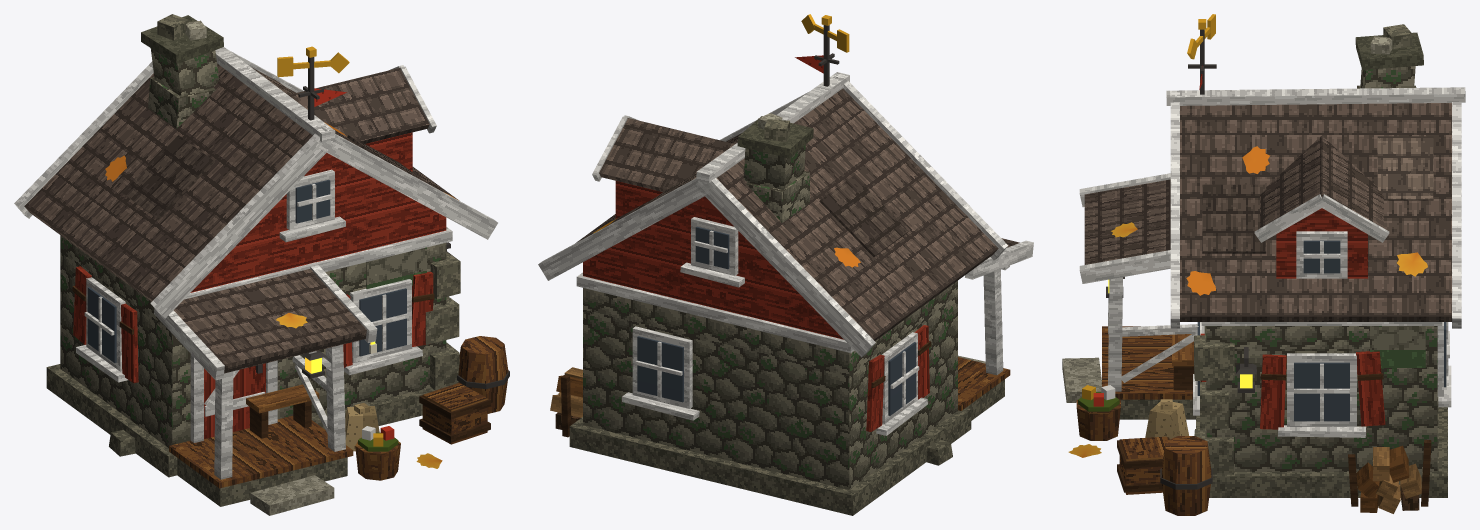
Rendered from home_3.glb.
3 renders of one model, left to right at view 1: azimuth 30°, elevation 25°; view 2: azimuth 150°, elevation 25°; view 3: azimuth 270°, elevation 25°, orthographic. The views are drawn at different scales.
Parts seen in each view (by area): view 1: home_3, sway_vane; view 2: home_3, sway_vane; view 3: home_3, sway_vane.
Boxes of the visible parts, box(x1,y1,x2,y2) form: home_3: box(14, 14, 509, 515); sway_vane: box(277, 46, 349, 77); home_3: box(538, 25, 1033, 515); sway_vane: box(801, 14, 849, 52); home_3: box(1062, 24, 1465, 515); sway_vane: box(1187, 14, 1215, 59).
Bounding box in the file's own units: 5.35 × 5.6 × 5.06.
29 materials, 20 textured.
